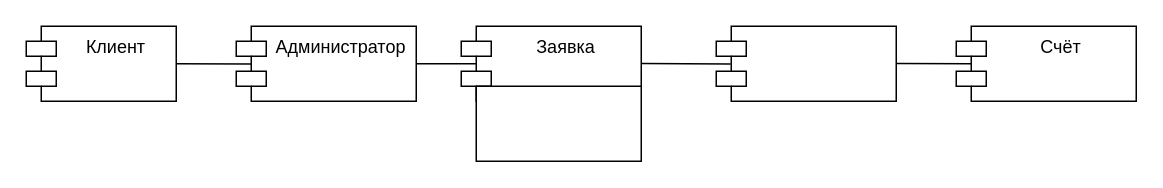
Some shapes in this 1163 by 188 pixel diagram are drawn without their labels. Each missing label, with the centre of its shape:
"данные о клиенте данные о номере" goes at point (558, 123).
"Результаты" goes at point (805, 63).
